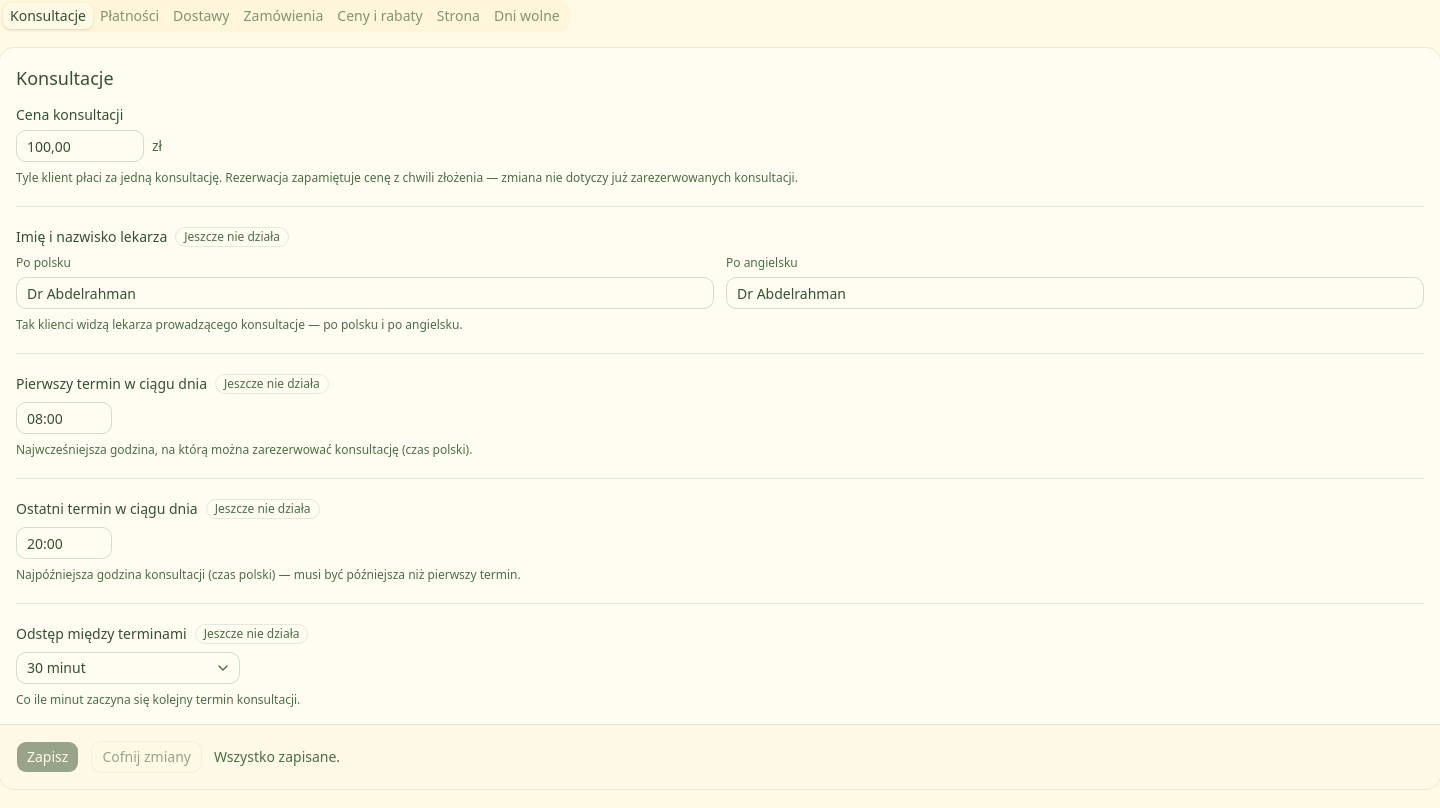
Test: SettingsForm (generated from the registry schema) › puts each 422 issue under its own field — key, key.pl and a cross-field rule
The width and height of the screenshot is (1440, 808).
In the field labelled "Pierwszy termin w ciągu dnia": x=64, y=418 [16,402,112,434], type "21:00"
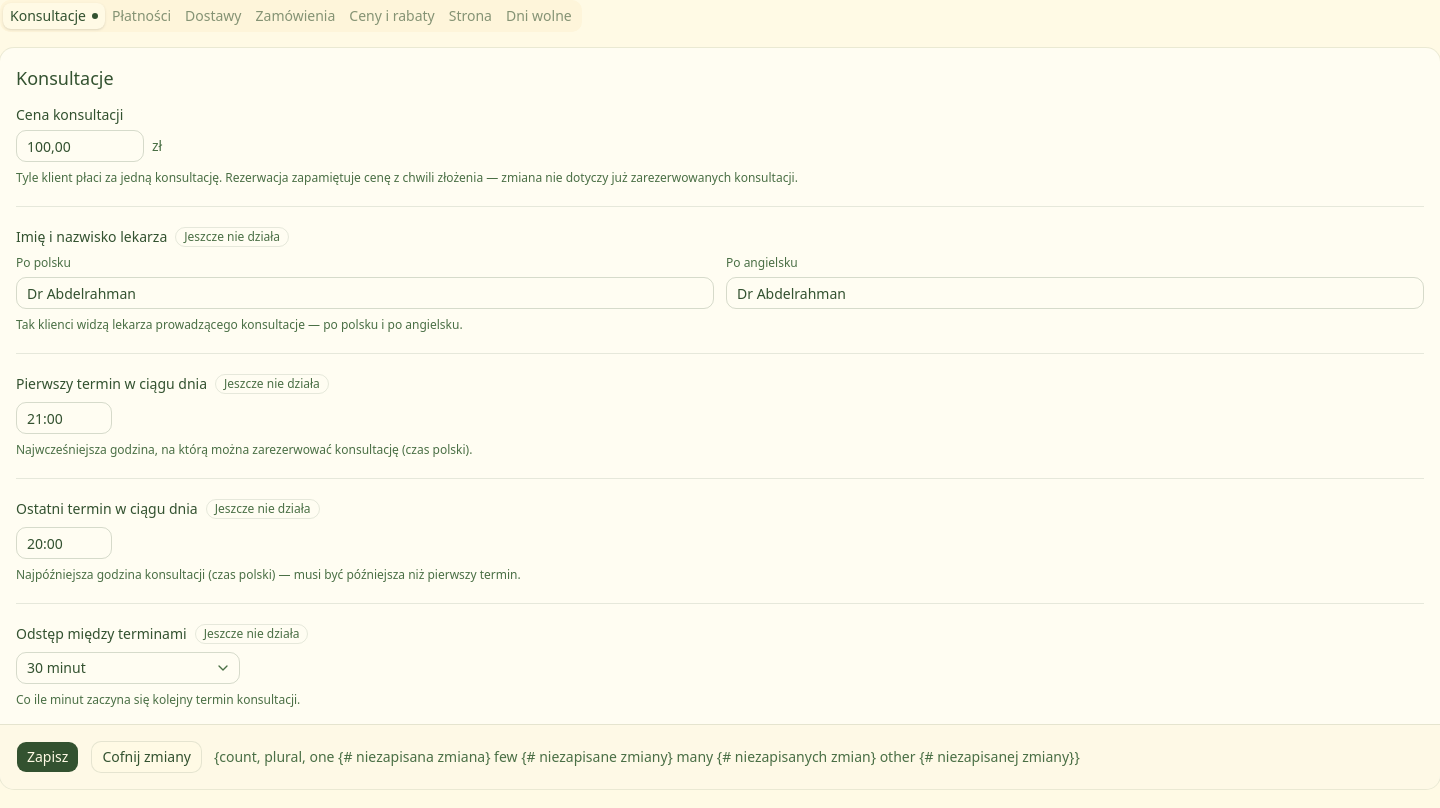
Click the button with test id "settings-save-consultations": x=48, y=757 [16,741,79,773]
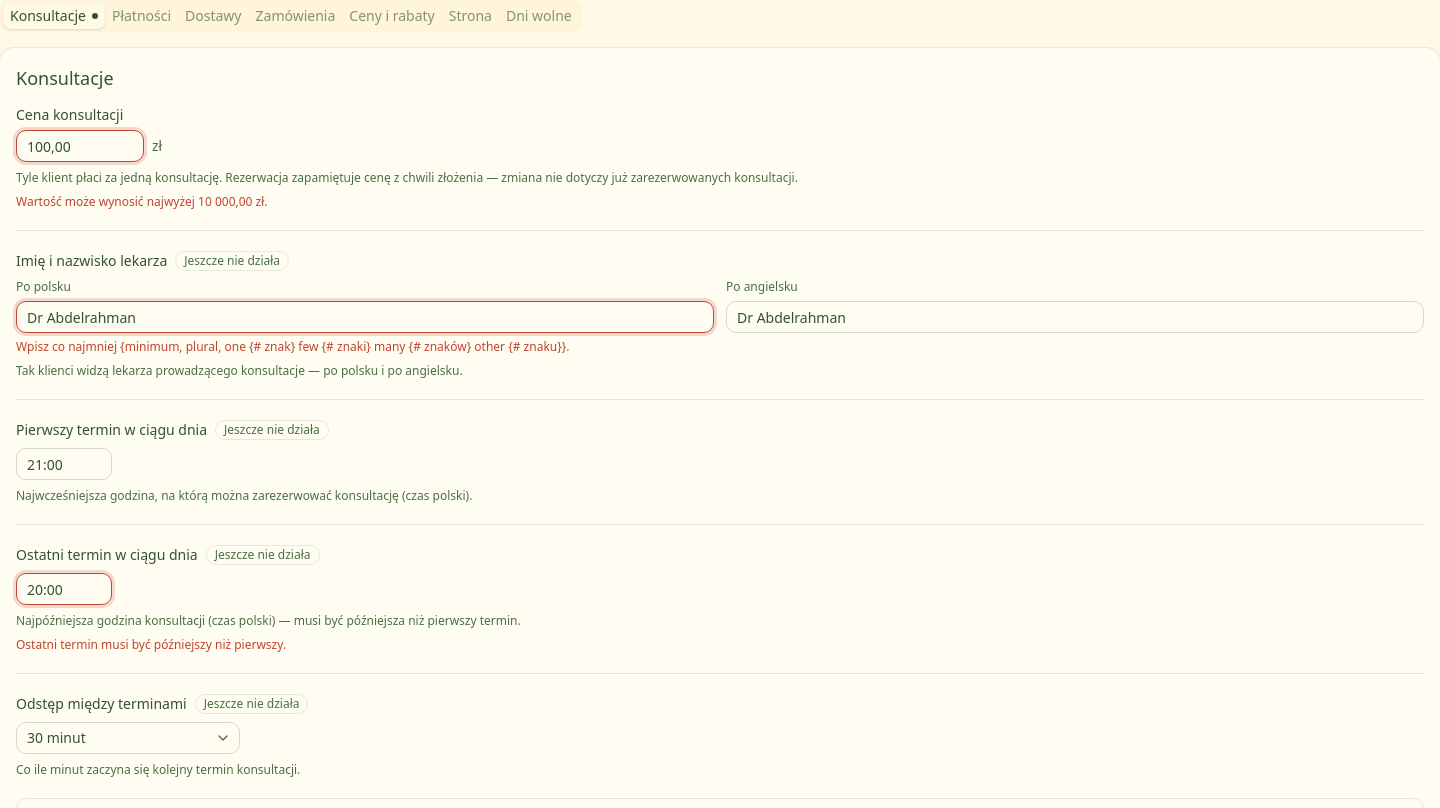
Expected: the message "Wartość może wynosić najwyżej 10 000,00 zł." is shown, [16,193,268,210]
